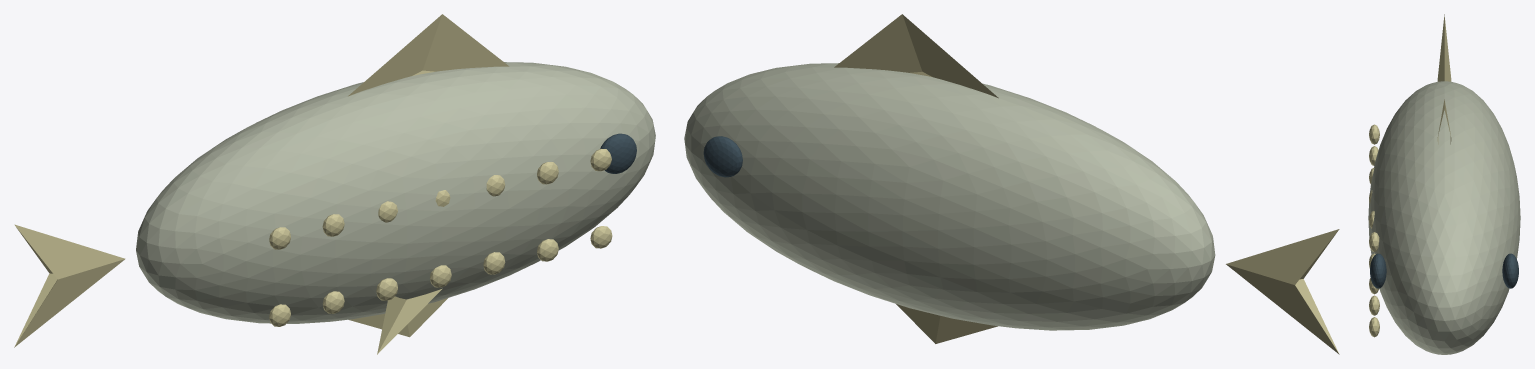
Rendered from Ikan_Dengkis.glb.
3 views of the same model, side by side, from view 1: azimuth 30°, elevation 25°; view 2: azimuth 150°, elevation 25°; view 3: azimuth 270°, elevation 25° (orthographic). The views are drawn at different scales.
Parts seen in each view (by area): view 1: Part_00, Part_01, Part_02, Part_04, Part_05, Part_03; view 2: Part_00, Part_01, Part_02, Part_03, Part_06; view 3: Part_00, Part_01, Part_05, Part_06, Part_14, Part_12, Part_13, Part_19, Part_02, Part_15.
Part boxes in pixels (bbox=[...]): Part_00: bbox=[136, 62, 655, 323]; Part_01: bbox=[14, 224, 125, 347]; Part_02: bbox=[348, 14, 509, 96]; Part_04: bbox=[377, 288, 442, 354]; Part_05: bbox=[600, 133, 636, 173]; Part_03: bbox=[348, 298, 447, 337]; Part_00: bbox=[684, 63, 1215, 330]; Part_01: bbox=[1226, 229, 1339, 354]; Part_02: bbox=[834, 14, 998, 98]; Part_03: bbox=[896, 304, 997, 343]; Part_06: bbox=[703, 136, 742, 177]; Part_00: bbox=[1368, 81, 1520, 354]; Part_01: bbox=[1437, 14, 1451, 81]; Part_05: bbox=[1370, 253, 1386, 288]; Part_06: bbox=[1502, 253, 1518, 288]; Part_14: bbox=[1369, 124, 1379, 144]; Part_12: bbox=[1369, 295, 1379, 315]; Part_13: bbox=[1369, 317, 1379, 337]; Part_19: bbox=[1369, 232, 1379, 251]; Part_02: bbox=[1437, 99, 1451, 144]; Part_15: bbox=[1369, 146, 1378, 165].
Bounding box in the file's own units: 1.3 × 0.6149 × 0.3268.
